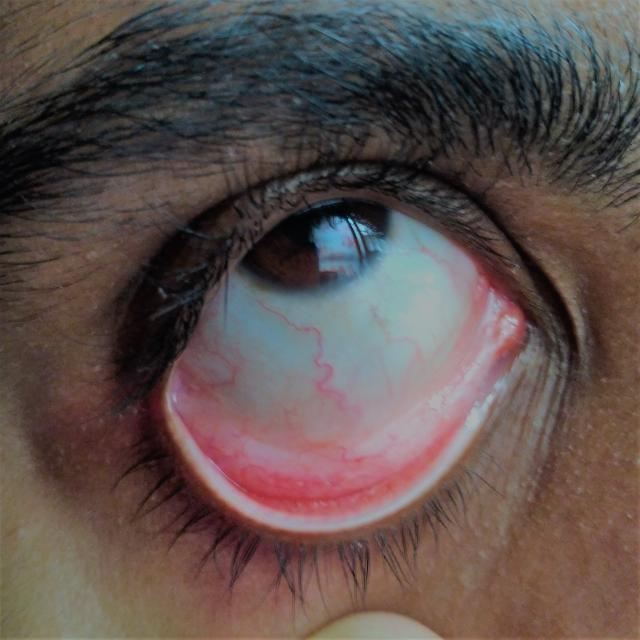conjunctiva_pallor: (173, 292, 512, 512)
